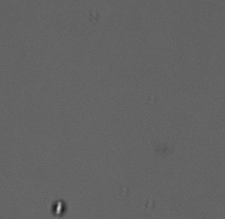Living Cell: (50, 198, 66, 216)
